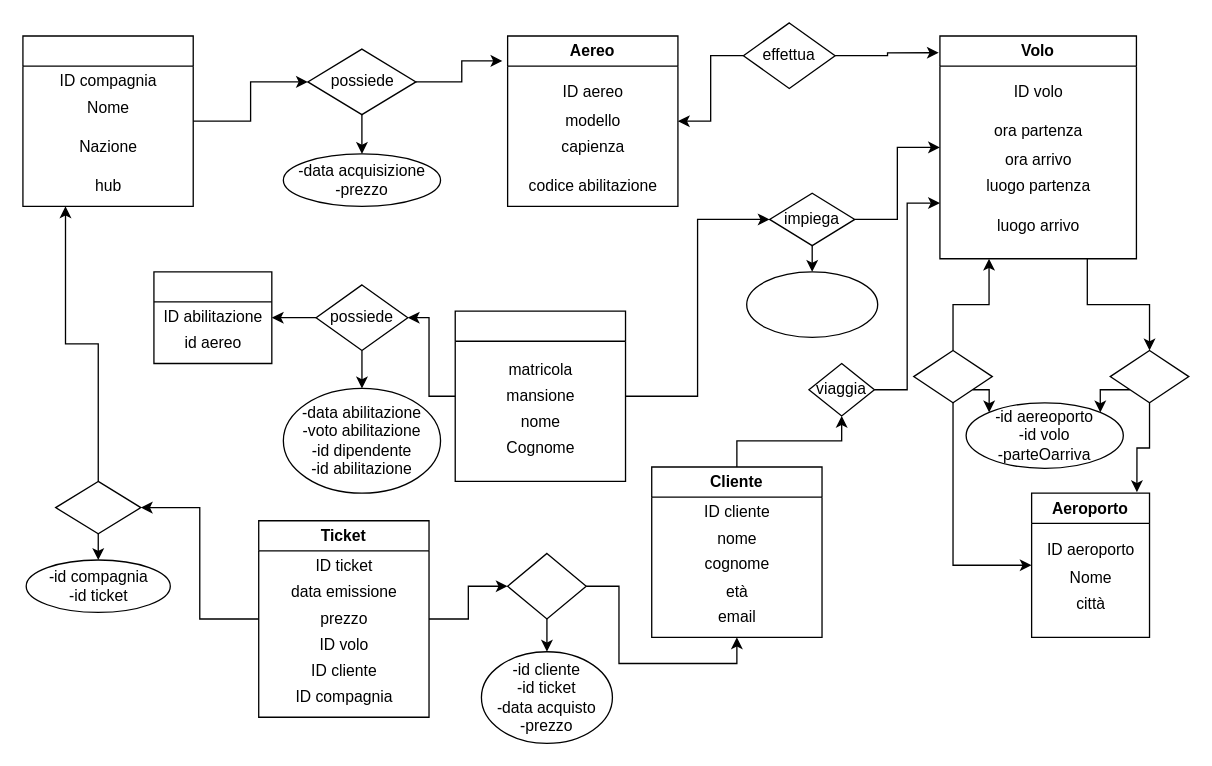
Some shapes in this 1212 by 766 pixel diagram are drawn without their labels. Here are the shapes that lost their labels. From the top down, the box of each, then its label:
(22, 35, 193, 206): Compagnia Aerea
(153, 271, 272, 364): Abilitazioni
(745, 271, 878, 337): -id volo -id dipendente -ore lavorate
(454, 310, 626, 481): Dipendenti
(912, 349, 992, 403): parte
(1109, 349, 1189, 403): arriva
(54, 480, 141, 534): emette
(506, 552, 586, 619): acquista
